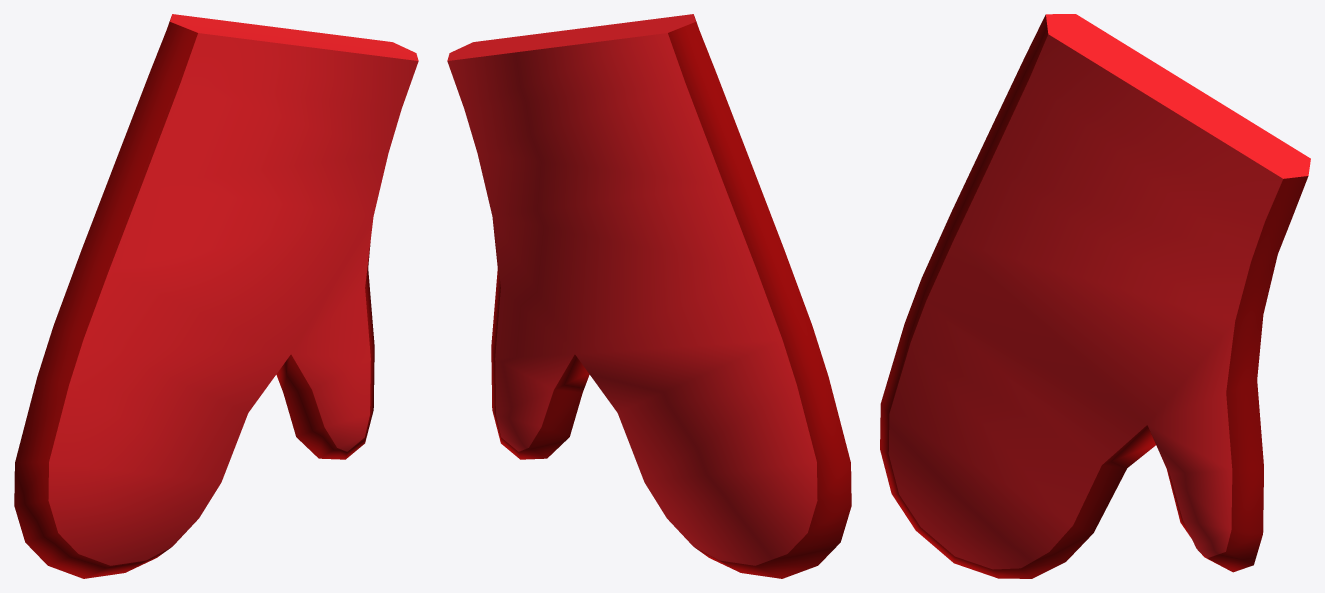
File: Kitchen_potholder_01.fbx
The picture shows the model from 3 angles, left to right: view 1: azimuth 30°, elevation 25°; view 2: azimuth 150°, elevation 25°; view 3: azimuth 330°, elevation 25°; orthographic projection. The views are drawn at different scales.
Parts seen in each view (by area): view 1: Kitchen_potholder_01; view 2: Kitchen_potholder_01; view 3: Kitchen_potholder_01.
Boxes of the visible parts, x1=… form: Kitchen_potholder_01: x1=14, y1=14, x2=418, y2=578; Kitchen_potholder_01: x1=447, y1=14, x2=851, y2=578; Kitchen_potholder_01: x1=880, y1=14, x2=1310, y2=578.
Size of the model in its own units: 64.61 by 7.22 by 82.97.
